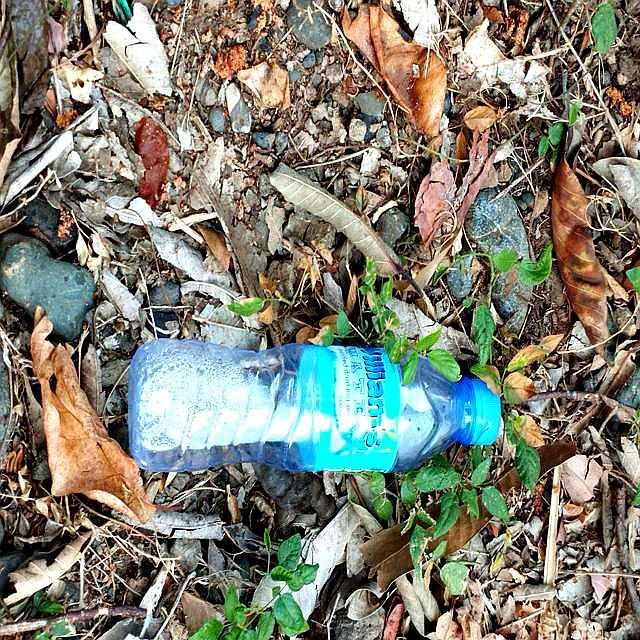Non-biodegradable: (125, 336, 505, 477)
